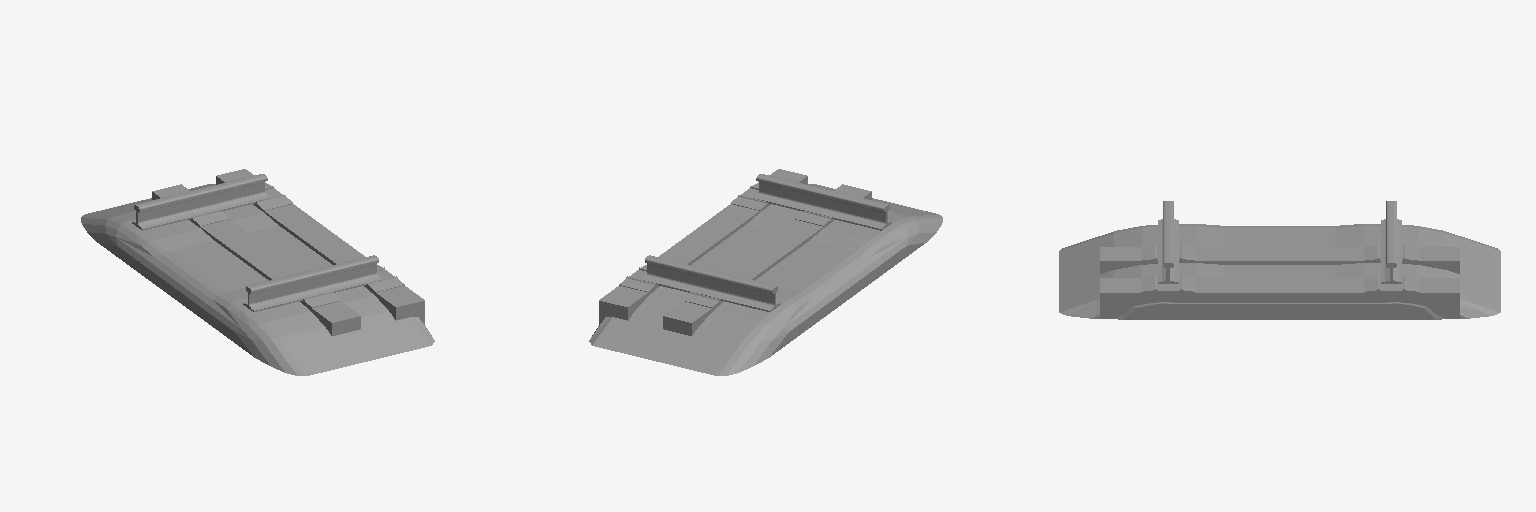
Rendered from darkoak_ballast.obj.
The picture shows the model from 3 angles: view 1: azimuth 30°, elevation 25°; view 2: azimuth 150°, elevation 25°; view 3: azimuth 270°, elevation 25°; orthographic projection.
Visible parts, largest first — view 1: RAIL_BASE.001_Plane.005, RAIL_BASE_Plane.003, RAIL_RIGHT_Cube.000, RAIL_LEFT_Cube.001, RAIL_BASE.002_Plane.002; view 2: RAIL_BASE.001_Plane.005, RAIL_BASE_Plane.003, RAIL_LEFT_Cube.001, RAIL_RIGHT_Cube.000, RAIL_BASE.002_Plane.002; view 3: RAIL_BASE.001_Plane.005, RAIL_BASE_Plane.003, RAIL_BASE.002_Plane.002, RAIL_LEFT_Cube.001, RAIL_RIGHT_Cube.000.
Part boxes in pixels (x1,y1,x2,y2): RAIL_BASE.001_Plane.005: (81, 184, 434, 375); RAIL_BASE_Plane.003: (152, 169, 424, 335); RAIL_RIGHT_Cube.000: (132, 174, 269, 230); RAIL_LEFT_Cube.001: (243, 255, 381, 311); RAIL_BASE.002_Plane.002: (190, 183, 404, 307); RAIL_BASE.001_Plane.005: (589, 184, 942, 375); RAIL_BASE_Plane.003: (599, 169, 871, 335); RAIL_LEFT_Cube.001: (754, 174, 891, 230); RAIL_RIGHT_Cube.000: (642, 255, 780, 311); RAIL_BASE.002_Plane.002: (619, 183, 833, 307); RAIL_BASE.001_Plane.005: (1059, 224, 1500, 319); RAIL_BASE_Plane.003: (1100, 247, 1459, 318); RAIL_BASE.002_Plane.002: (1141, 244, 1418, 292); RAIL_LEFT_Cube.001: (1158, 201, 1178, 283); RAIL_RIGHT_Cube.000: (1381, 201, 1401, 283).
Size of the model in its own units: 1.25 by 0.3683 by 3.